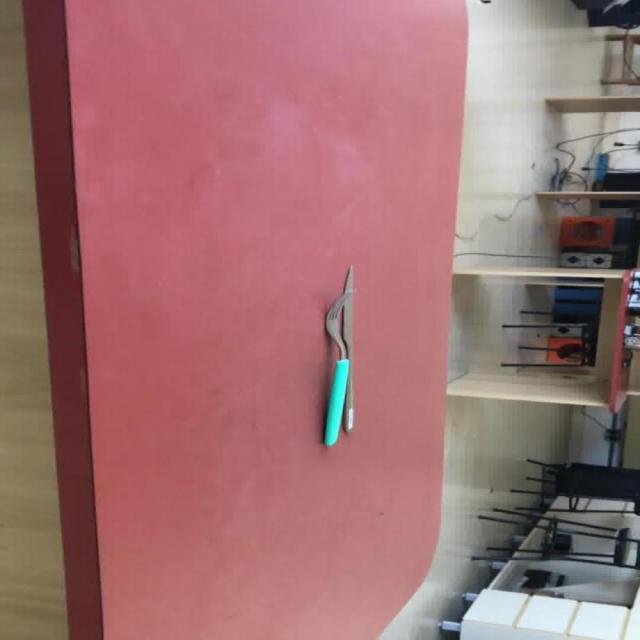Fork: (321, 264, 356, 446)
Knife: (321, 264, 356, 446)
